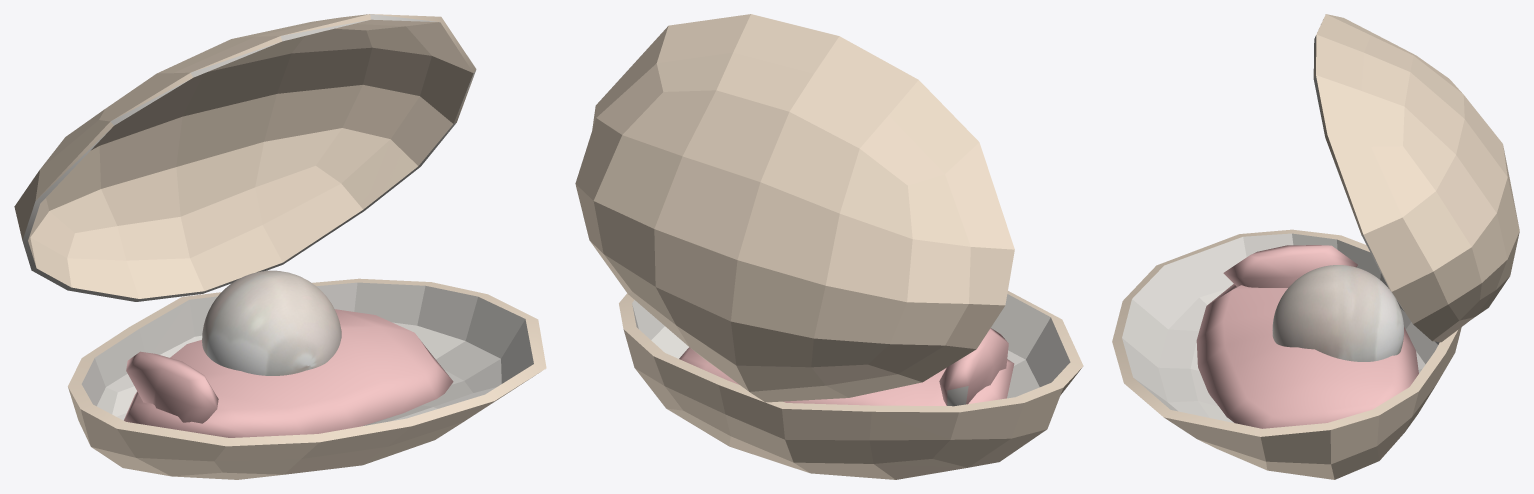
File: Shhell.fbx
3 views of the same model, side by side, from view 1: azimuth 30°, elevation 25°; view 2: azimuth 150°, elevation 25°; view 3: azimuth 270°, elevation 25° (orthographic). The views are drawn at different scales.
Visible parts, largest first — view 1: node-0.001, node-0, Object_5.001; view 2: node-0.001, node-0; view 3: node-0, node-0.001, Object_5.001.
Boxes of the visible parts, x1,y1,x2,y2 form: node-0.001: (14,14,476,301); node-0: (68,278,546,479); Object_5.001: (202,270,341,375); node-0.001: (575,14,1014,402); node-0: (619,291,1083,479); node-0: (1112,229,1461,479); node-0.001: (1313,14,1519,342); Object_5.001: (1272,265,1403,361).
Bounding box in the file's own units: 4357 × 3992 × 3717.
